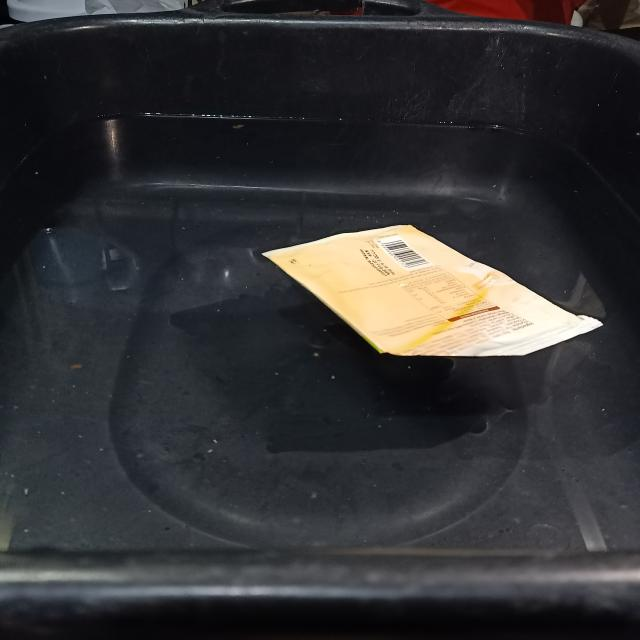Plastic Wrapper: (263, 225, 601, 356)
